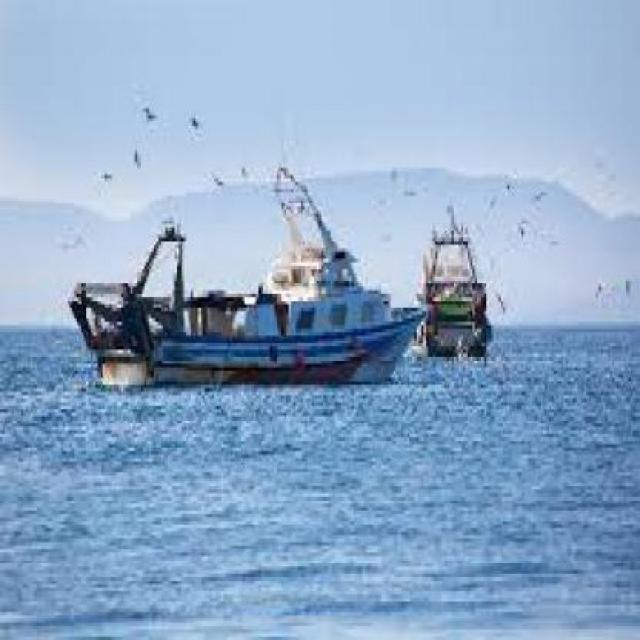Ship: (50, 158, 432, 397), (426, 215, 497, 367)
